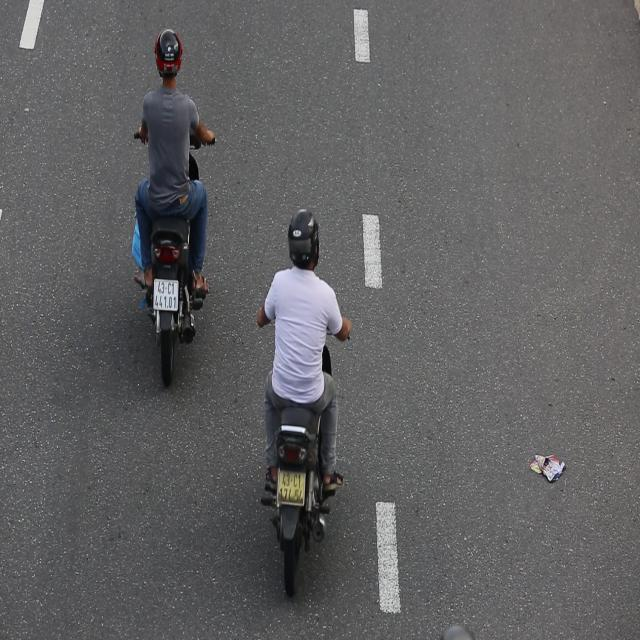motorbike: (250, 186, 359, 608), (126, 18, 217, 401)
